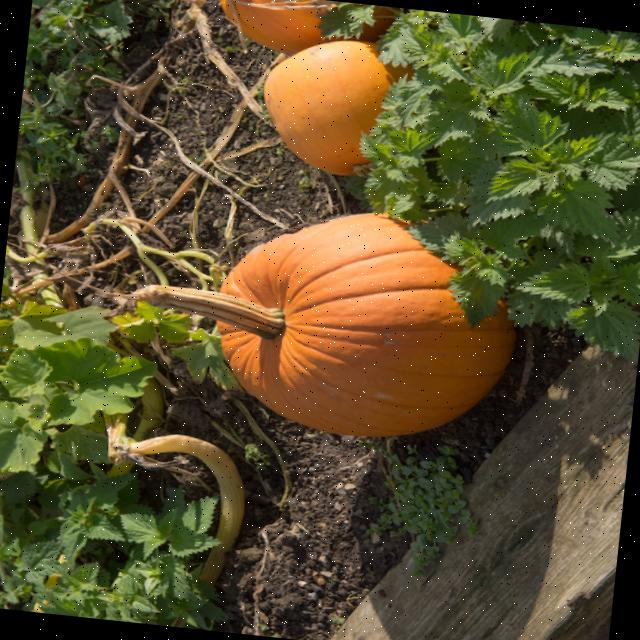pumpkin: (127, 212, 515, 435), (264, 39, 412, 174), (220, 0, 336, 53), (362, 10, 391, 40)
